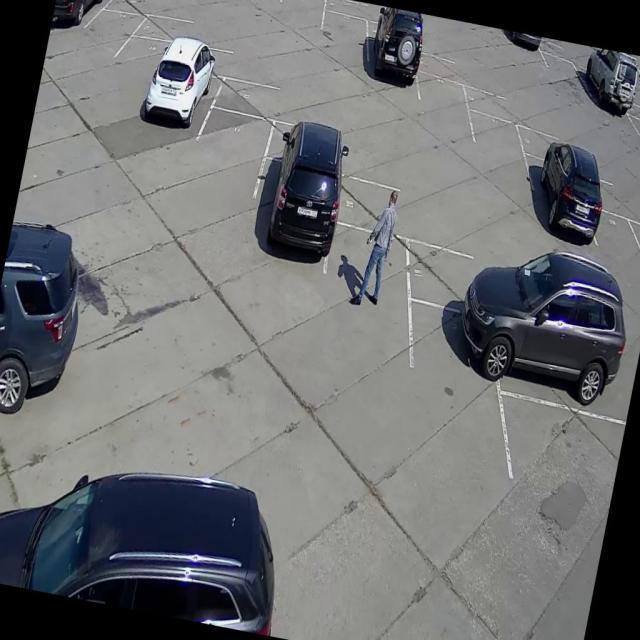car: (386, 309, 500, 462), (499, 301, 636, 404), (245, 152, 344, 282), (0, 287, 89, 428), (512, 155, 602, 256), (137, 66, 214, 154), (363, 24, 418, 97), (575, 73, 633, 138), (51, 0, 118, 36), (492, 28, 536, 74)
free: (497, 402, 625, 528), (316, 226, 410, 346), (399, 242, 517, 318), (185, 108, 273, 202), (0, 429, 54, 577), (332, 174, 438, 240), (404, 74, 474, 162), (454, 114, 522, 204), (264, 113, 364, 171), (105, 33, 168, 121), (582, 214, 640, 306), (216, 76, 316, 126), (79, 5, 137, 70), (512, 114, 579, 170), (137, 10, 216, 52), (459, 80, 522, 128), (535, 51, 581, 112), (167, 39, 244, 74), (318, 17, 366, 72), (583, 174, 639, 220), (413, 46, 477, 84), (278, 0, 323, 45), (113, 0, 182, 22), (322, 0, 374, 28), (455, 21, 495, 51), (626, 114, 640, 180), (418, 13, 457, 32), (565, 42, 607, 57), (628, 222, 640, 274), (241, 0, 283, 12), (288, 0, 338, 4)
